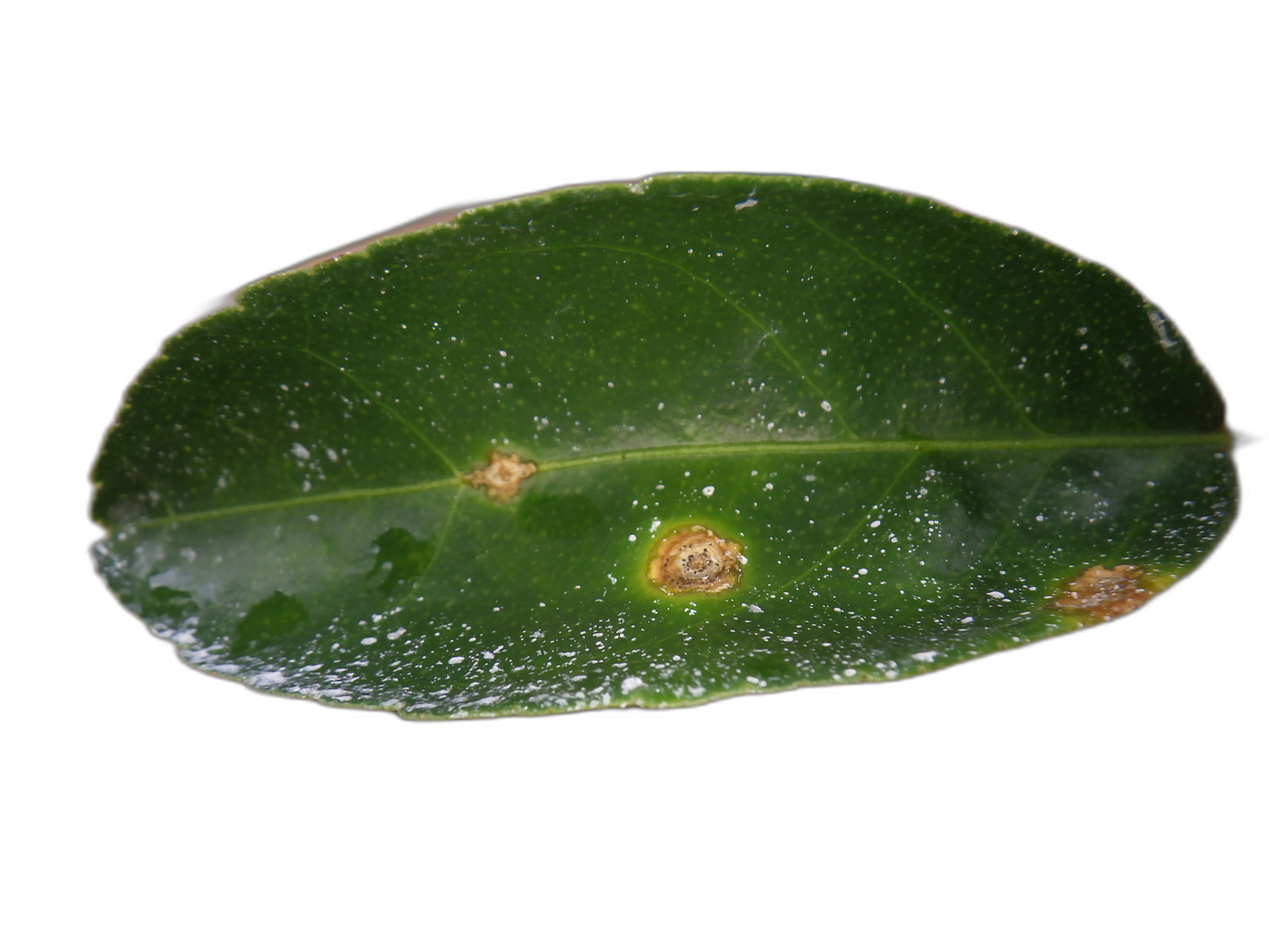Canker: (1050, 561, 1162, 626), (648, 524, 745, 594), (463, 451, 540, 498)
